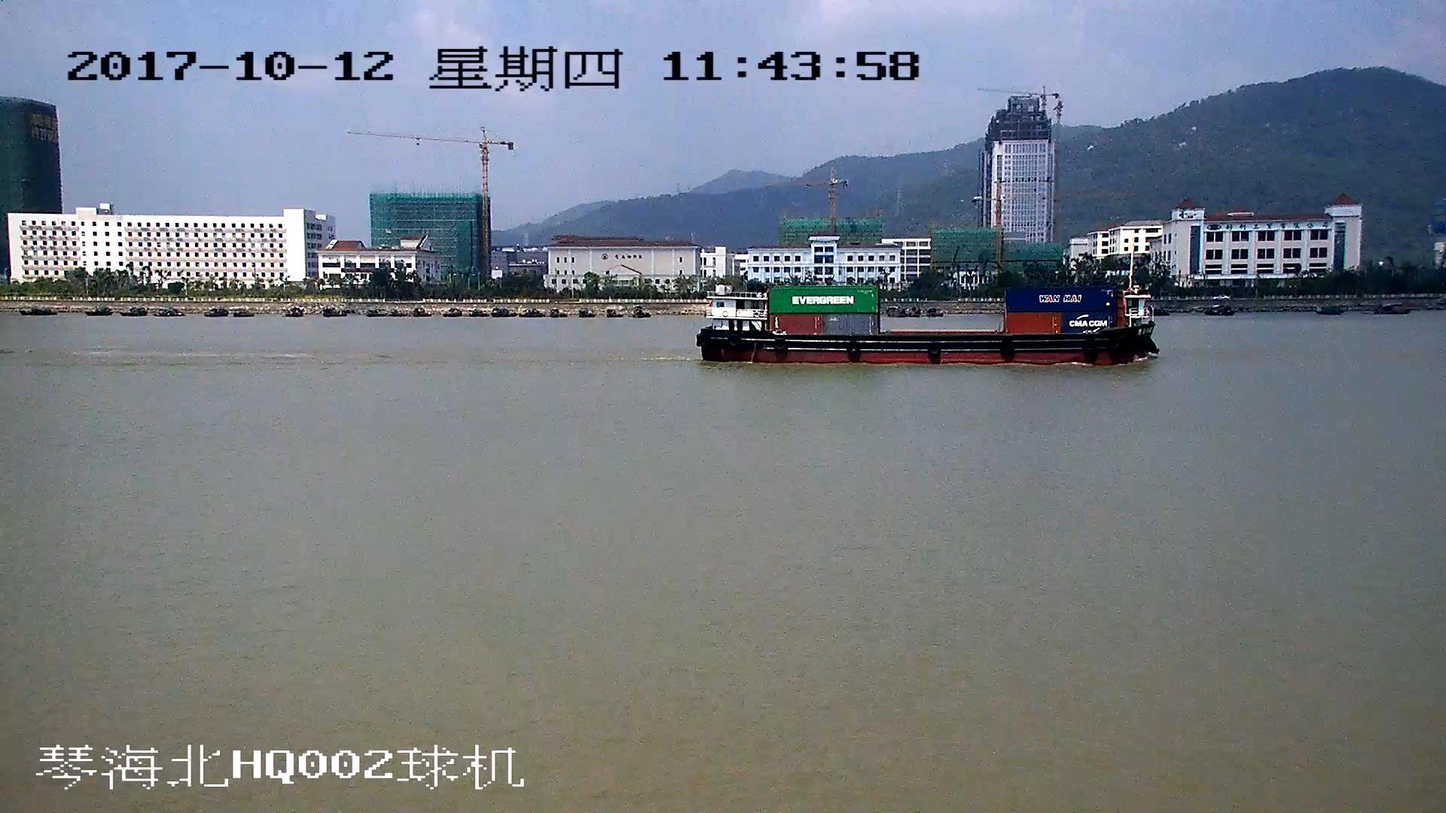container ship: (698, 278, 1155, 366)
